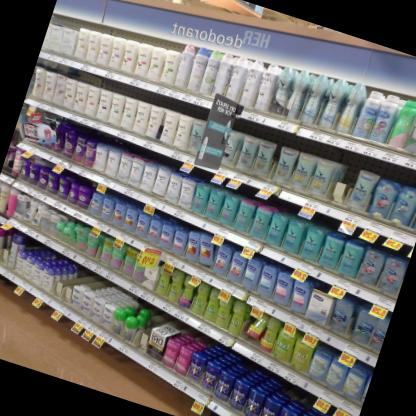empty_space: (327, 149, 363, 208), (132, 303, 160, 354), (59, 262, 85, 306), (50, 256, 75, 301), (0, 225, 17, 266)
